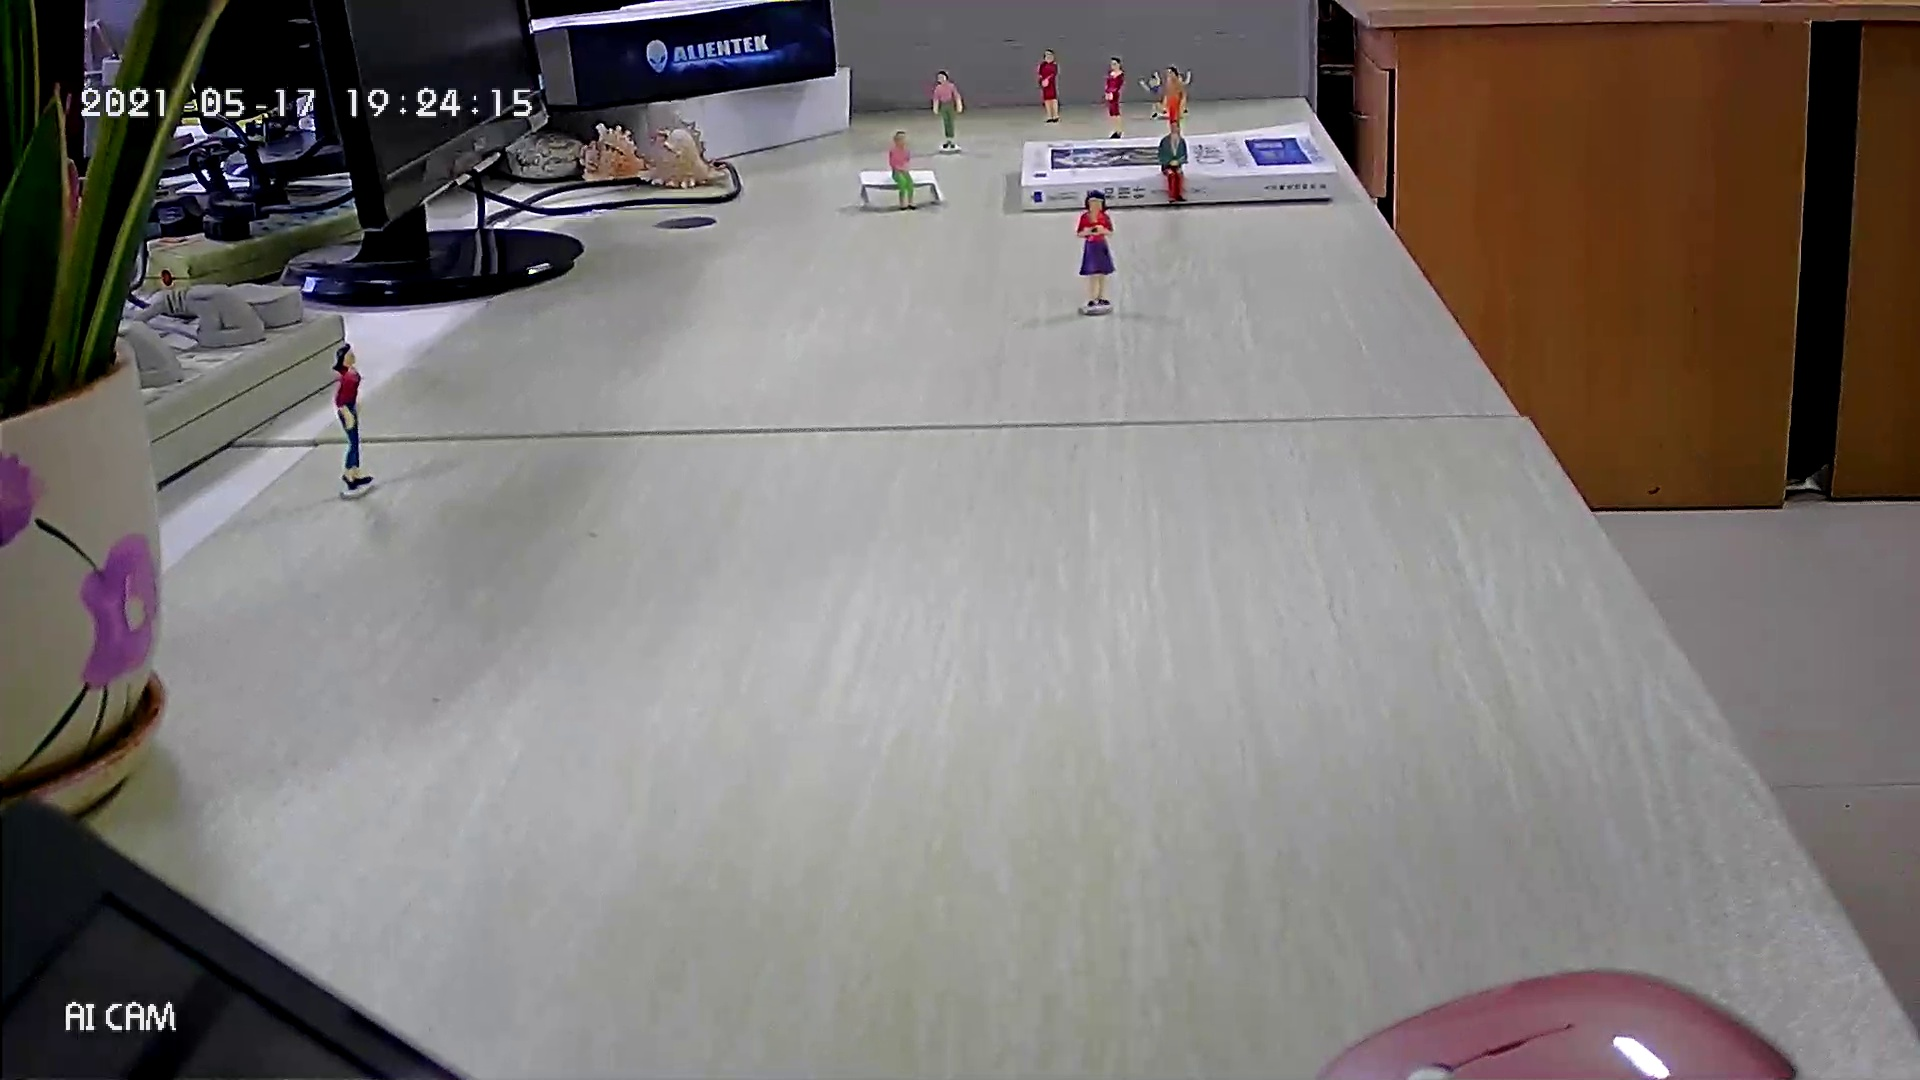person: (329, 336, 375, 496), (1073, 190, 1119, 314), (1155, 118, 1193, 210), (887, 126, 923, 214), (929, 68, 965, 150), (1099, 54, 1129, 142), (1035, 46, 1065, 128), (1159, 60, 1185, 138), (1135, 68, 1167, 112), (1181, 62, 1195, 90)
